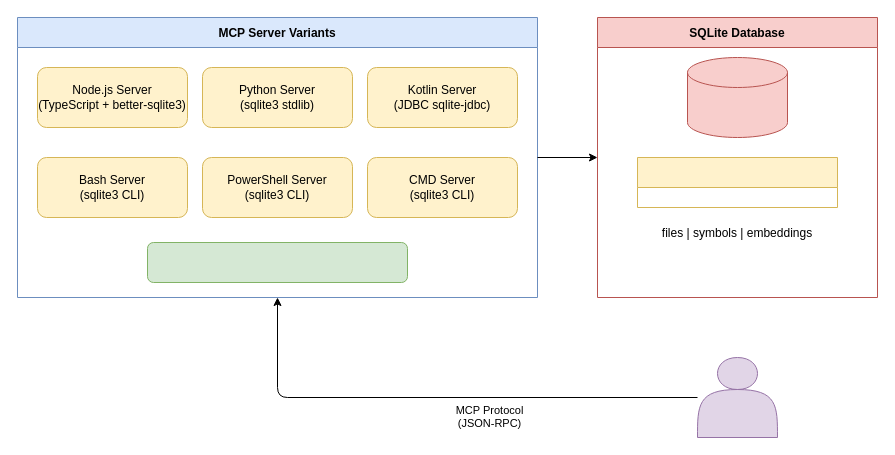
Some shapes in this 895 by 455 pixel diagram are drawn without their labels. The box of each missing label's shape, as (x1, y1, x2, y2) in pixels:
AI Agents (Kiro): (696, 356, 778, 438)
index.db: (686, 56, 788, 138)
Migration Runner V2 (Add pattern columns): (146, 242, 408, 282)
modules table + 6 pattern columns: (636, 156, 838, 208)
